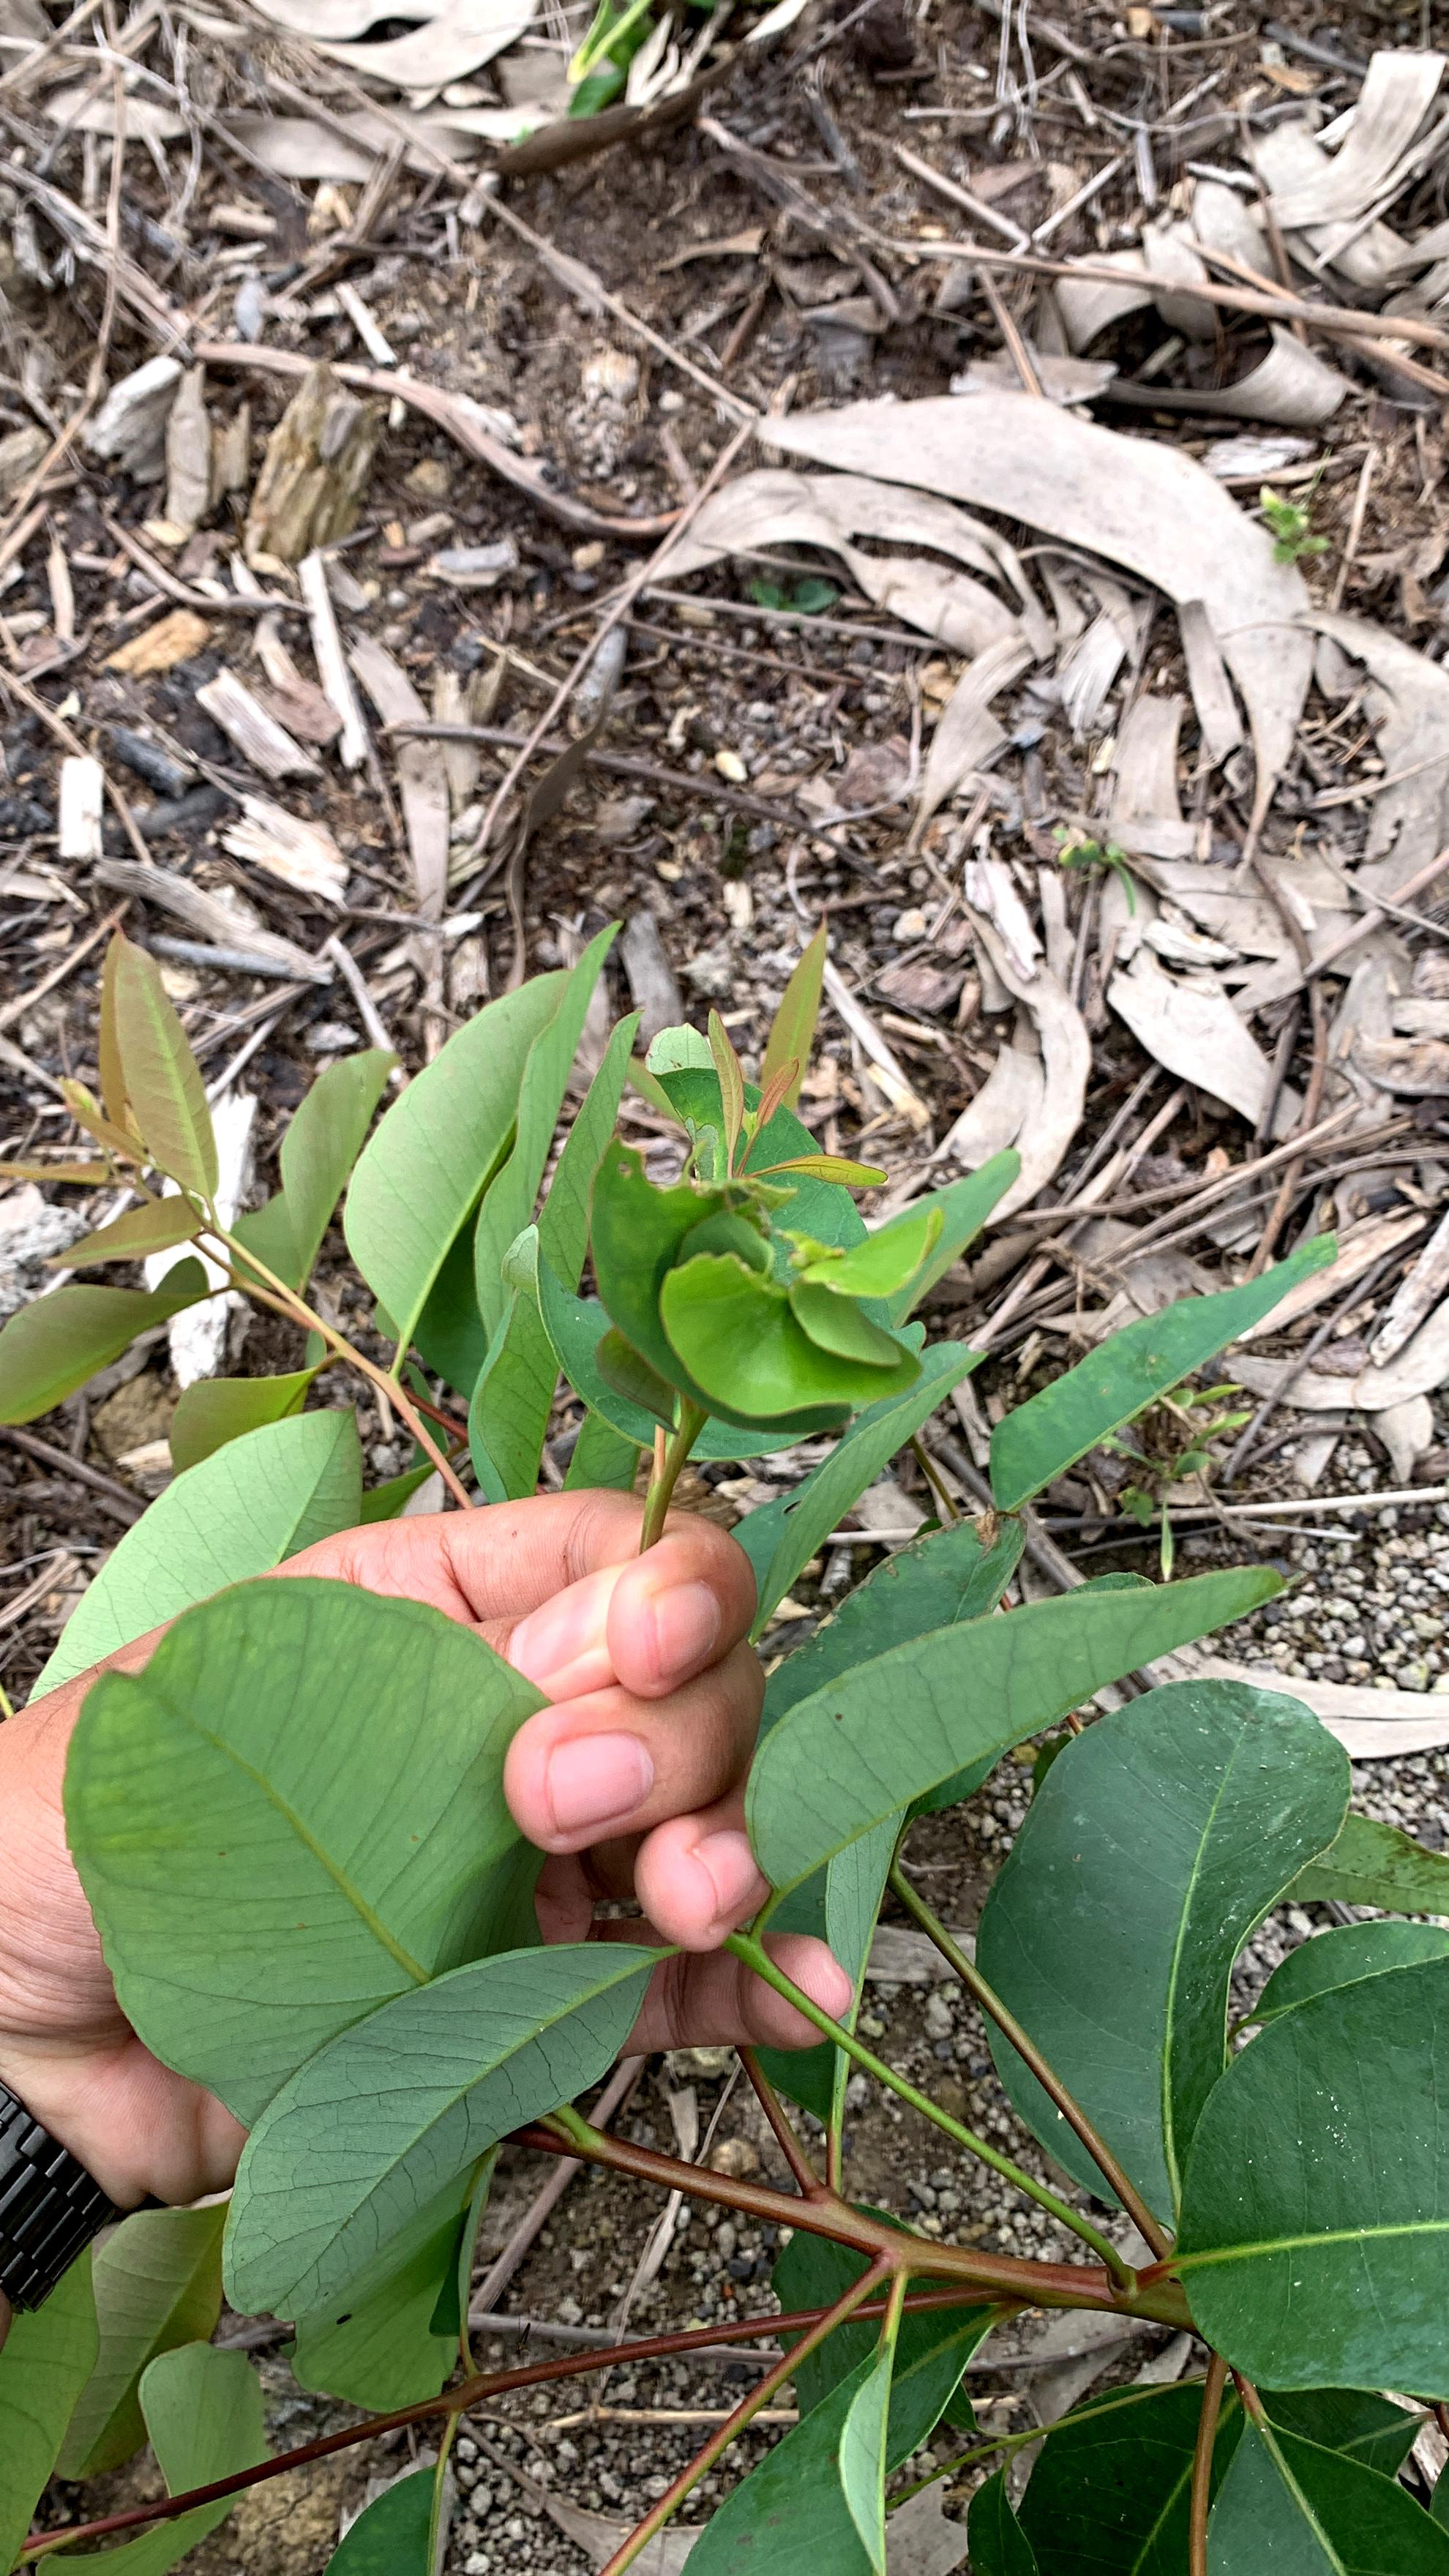Leaf Roller - Leaf: (589, 1109, 947, 1486)
